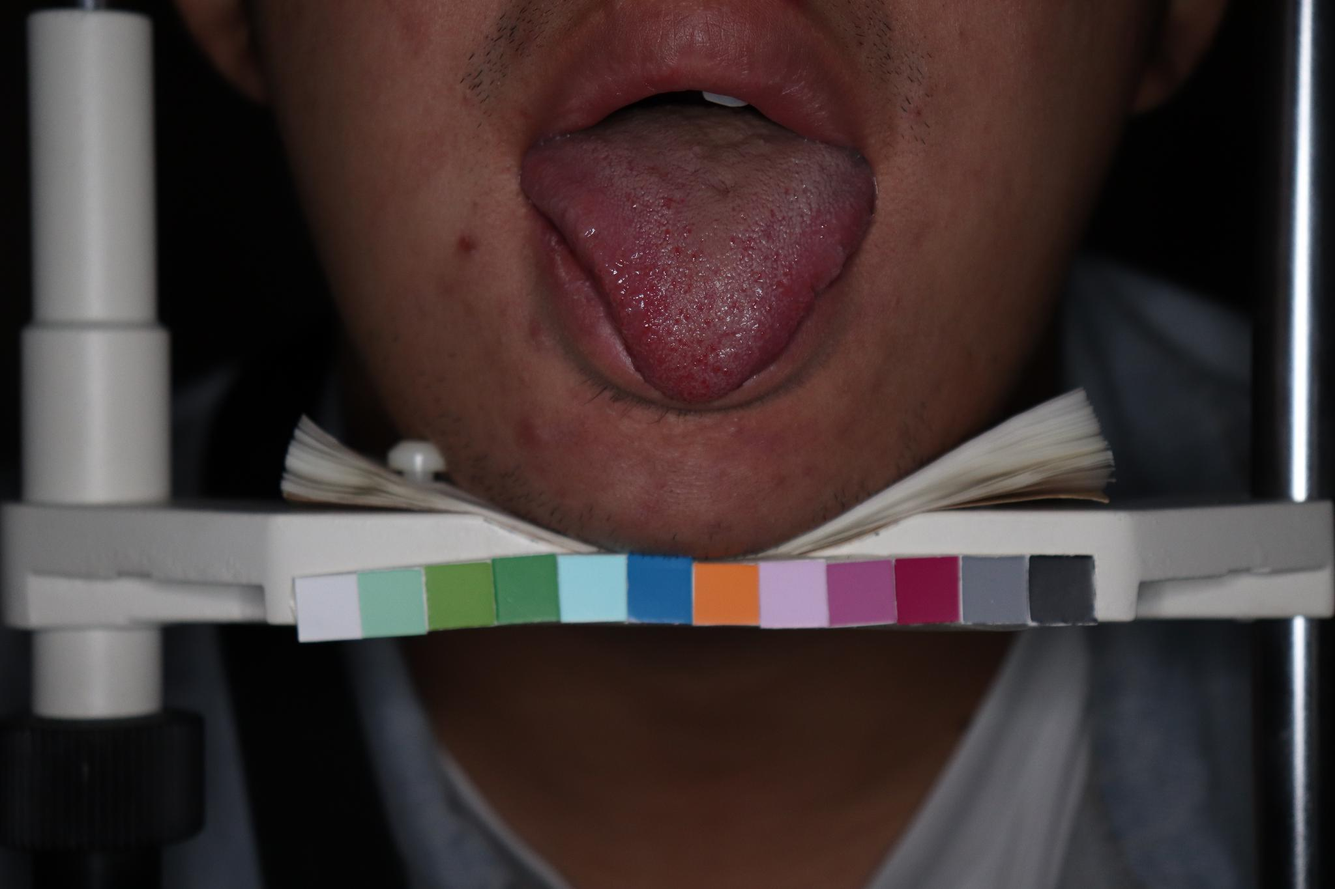hongdianshe: (662, 226, 672, 242), (727, 233, 735, 247), (696, 302, 705, 313), (689, 250, 697, 262), (681, 311, 690, 321), (669, 278, 677, 289), (673, 245, 681, 256), (692, 359, 697, 366)
hongshe: (523, 98, 875, 403)
huangtaishe: (523, 98, 875, 403)
